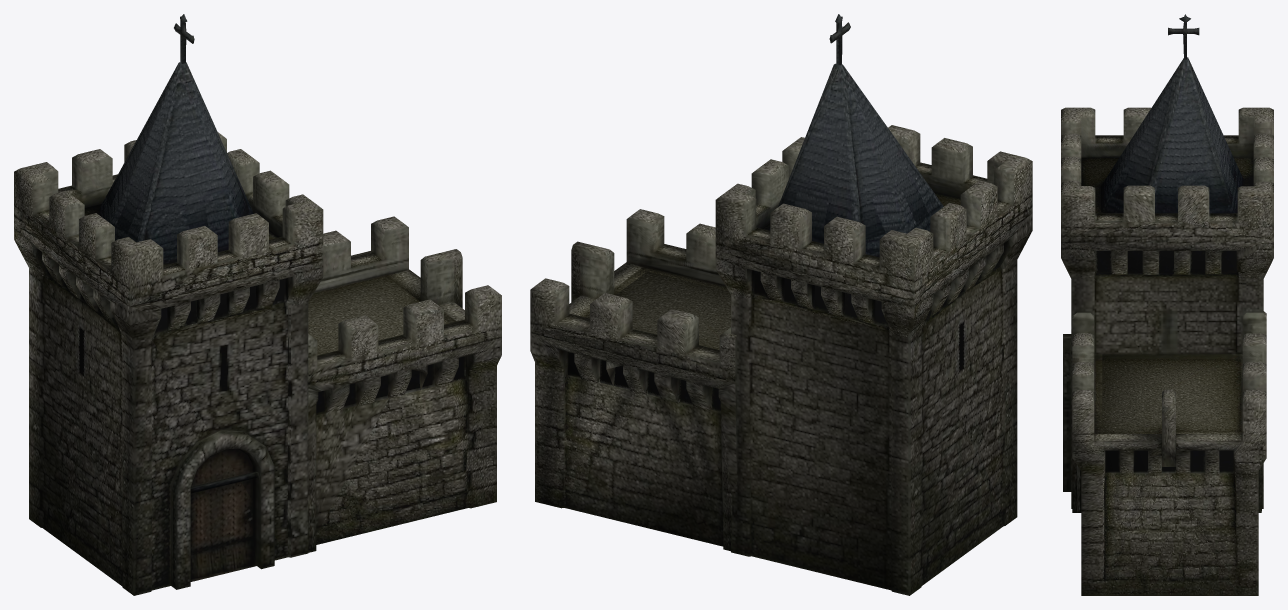
Rendered from medieval+castle+turret+wall+3d+model.glb.
3 renders of one model, left to right at view 1: azimuth 30°, elevation 25°; view 2: azimuth 150°, elevation 25°; view 3: azimuth 270°, elevation 25°, orthographic. The views are drawn at different scales.
Visible parts, largest first — view 1: tripo_node_1b693ed6-85d5-4259-bfe9-ed3e4d97c221; view 2: tripo_node_1b693ed6-85d5-4259-bfe9-ed3e4d97c221; view 3: tripo_node_1b693ed6-85d5-4259-bfe9-ed3e4d97c221.
Part boxes in pixels (x1,y1,x2,y2): tripo_node_1b693ed6-85d5-4259-bfe9-ed3e4d97c221: (14, 14, 501, 595); tripo_node_1b693ed6-85d5-4259-bfe9-ed3e4d97c221: (530, 14, 1032, 595); tripo_node_1b693ed6-85d5-4259-bfe9-ed3e4d97c221: (1061, 14, 1273, 595).
Size of the model in its own units: 0.7949 by 0.998 by 0.4121.
1 material, 1 textured.
